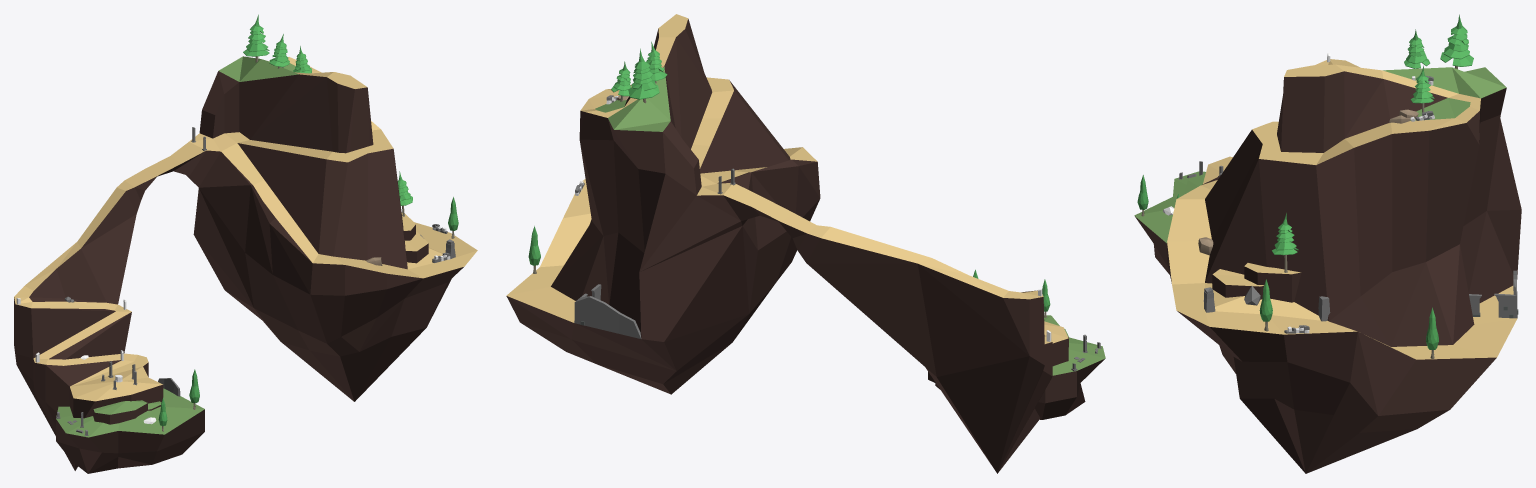
Rendered from SM_02 Mountain.fbx.
3 views of the same model, side by side, from view 1: azimuth 30°, elevation 25°; view 2: azimuth 150°, elevation 25°; view 3: azimuth 270°, elevation 25° (orthographic). The views are drawn at different scales.
Visible parts, largest first — view 1: Plane.011, Plane.008, Plane.010, Pine.002, Plane.007; view 2: Plane.011, Plane.008, Cube.037, Pine.002; view 3: Plane.011, Plane.008, Plane.004, Plane.007, Pine.002, Cube.037, Pine.001, Pine.003, Pine.004, Cylinder.005.
Boxes of the visible parts, box(x1,y1,x2,y2) form: Plane.011: box(14, 56, 477, 470); Plane.008: box(56, 388, 204, 473); Plane.010: box(93, 400, 147, 424); Pine.002: box(243, 14, 269, 62); Plane.007: box(405, 232, 428, 263); Plane.011: box(506, 14, 1068, 473); Plane.008: box(935, 315, 1105, 419); Cube.037: box(574, 284, 641, 338); Pine.002: box(628, 48, 659, 103); Plane.011: box(1167, 59, 1521, 473); Plane.008: box(1134, 171, 1205, 274); Plane.004: box(1244, 263, 1301, 302); Plane.007: box(1212, 269, 1264, 299); Pine.002: box(1440, 14, 1473, 69); Cube.037: box(1469, 270, 1517, 318); Pine.001: box(1271, 213, 1298, 272); Pine.003: box(1404, 29, 1430, 68); Pine.004: box(1410, 65, 1434, 112); Cylinder.005: box(1259, 279, 1272, 331).
Size of the model in its own units: 5854 by 4703 by 3758.
